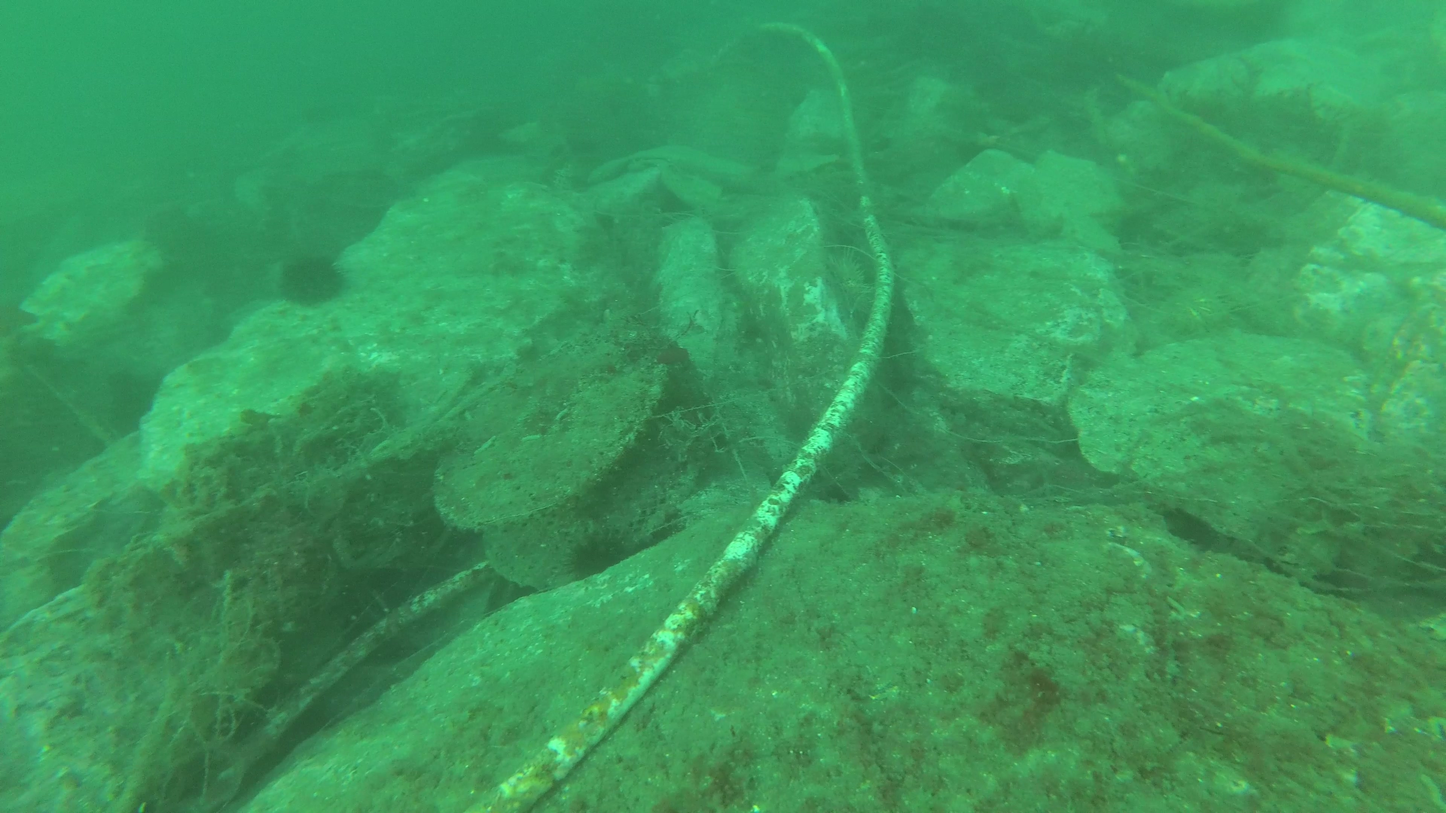starfish: (275, 252, 351, 312)
